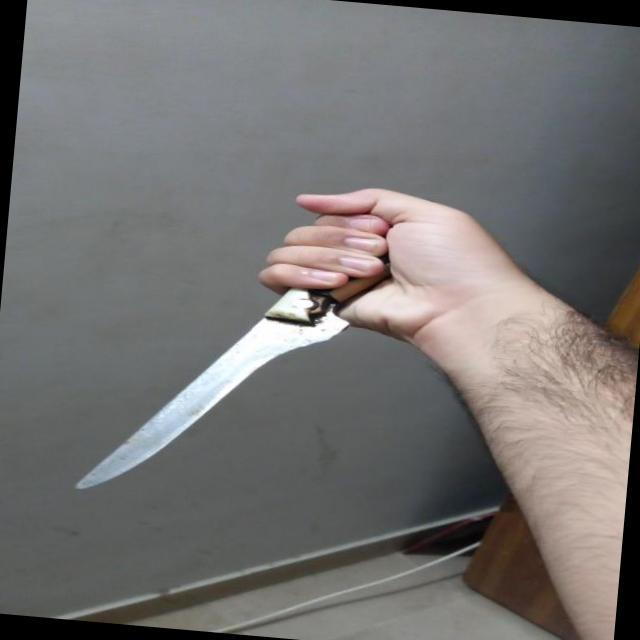Knife: (64, 162, 453, 528)
